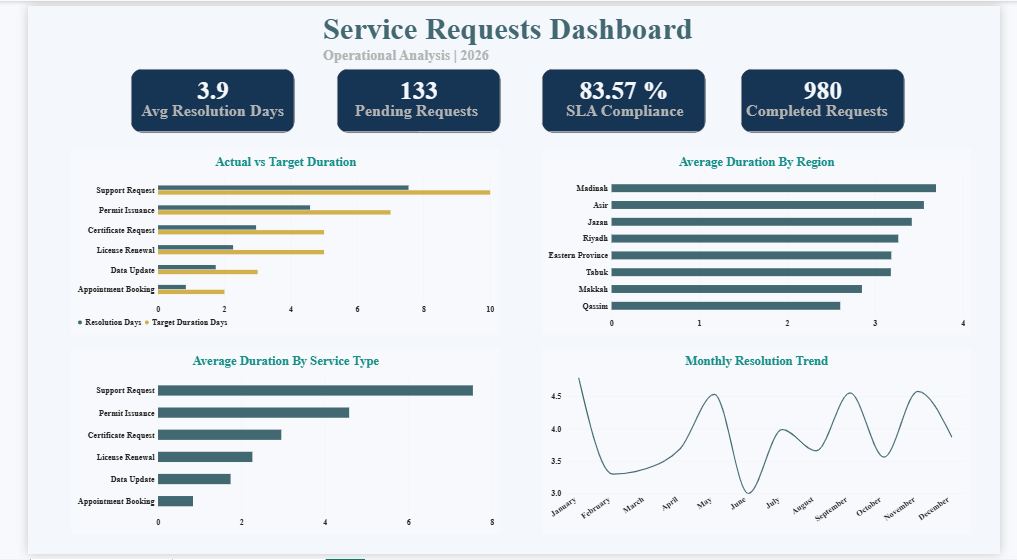

The page's visual inventory and layout, read from the dashboard file:
{"tool":"powerbi","page":{"name":"Operational Analysis","canvas":[2560,1440],"ordinal":1},"visuals":[{"type":"cardVisual","fields":{"Data":["طلبات الخدمات.Avg Resolution Days"]},"box":[270,166.7,430,166.7],"z":1},{"type":"cardVisual","fields":{"Data":["طلبات الخدمات.Pending Requests"]},"box":[813.3,166.7,430,166.7],"z":2},{"type":"cardVisual","fields":{"Data":["طلبات الخدمات.SLA Compliance %"]},"box":[1353.3,166.7,430,166.7],"z":3},{"type":"cardVisual","fields":{"Data":["طلبات الخدمات.Completed Requests"]},"box":[1876.7,166.7,430,166.7],"z":4},{"type":"textbox","box":[1890,250,406.7,66.7],"z":6},{"type":"textbox","box":[860,250,336.7,76.7],"z":7},{"type":"textbox","box":[270,250,430,66.7],"z":8},{"type":"textbox","box":[1383.3,250,373.3,53.3],"z":9},{"type":"textbox","box":[776.7,16.7,1006.7,150],"z":10},{"type":"clusteredBarChart","title":"Actual vs Target Duration","fields":{"Category":["طلبات الخدمات.نوع الخدمة"],"Y":["Avg(طلبات الخدمات.مدة الإنجاز بالأيام)","Avg(طلبات الخدمات.المدة المستهدفة بالأيام)"]},"box":[113.3,376.7,1130,490],"z":11},{"type":"clusteredBarChart","title":"Average Duration By Region","fields":{"Category":["طلبات الخدمات.المنطقة"],"Y":["Avg(طلبات الخدمات.مدة الإنجاز بالأيام)"]},"box":[1353.3,376.7,1130,490],"z":12},{"type":"clusteredBarChart","title":"Average Duration By Service Type","fields":{"Category":["طلبات الخدمات.نوع الخدمة"],"Y":["Avg(طلبات الخدمات.مدة الإنجاز بالأيام)"]},"box":[113.3,900,1130,490],"z":13},{"type":"lineChart","title":"Monthly Resolution Trend","fields":{"Category":["طلبات الخدمات.تاريخ الإكمال.Variation.Date Hierarchy.Month"],"Y":["Avg(طلبات الخدمات.مدة الإنجاز بالأيام)"]},"box":[1353.3,900,1130,490],"z":14}]}

Visuals, with their boxes in screenshot pixels (x1, y1, x2, y2), scaled from the page's 2560x1440 canvas onto the 1017x560 screenshot:
cardVisual - طلبات الخدمات.Avg Resolution Days: box=[107, 65, 278, 130]
cardVisual - طلبات الخدمات.Pending Requests: box=[323, 65, 494, 130]
cardVisual - طلبات الخدمات.SLA Compliance %: box=[538, 65, 708, 130]
cardVisual - طلبات الخدمات.Completed Requests: box=[746, 65, 916, 130]
textbox: box=[751, 97, 912, 123]
textbox: box=[342, 97, 475, 127]
textbox: box=[107, 97, 278, 123]
textbox: box=[550, 97, 698, 118]
textbox: box=[309, 6, 708, 65]
"Actual vs Target Duration" clusteredBarChart: box=[45, 146, 494, 337]
"Average Duration By Region" clusteredBarChart: box=[538, 146, 987, 337]
"Average Duration By Service Type" clusteredBarChart: box=[45, 350, 494, 541]
"Monthly Resolution Trend" lineChart: box=[538, 350, 987, 541]
